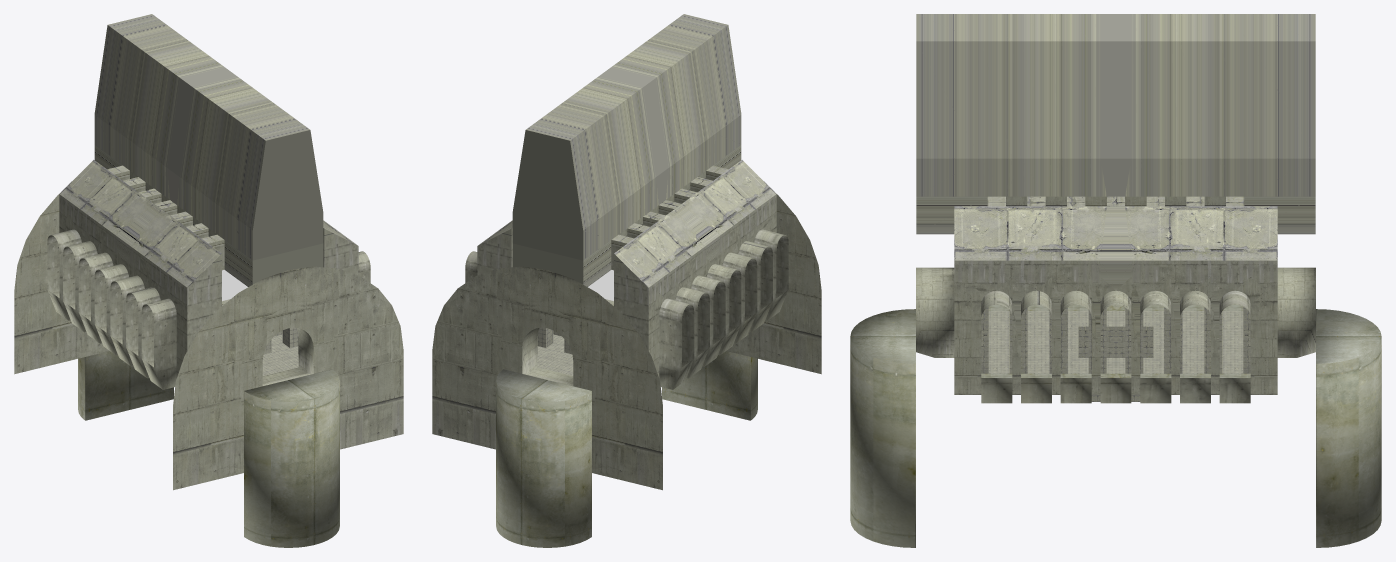
The model's file is SM_Impasse_Block_00.fbx.
3 views of the same model, side by side, from view 1: azimuth 30°, elevation 25°; view 2: azimuth 150°, elevation 25°; view 3: azimuth 270°, elevation 25° (orthographic). The views are drawn at different scales.
Visible parts, largest first — view 1: SM_Impasse_Block_00; view 2: SM_Impasse_Block_00; view 3: SM_Impasse_Block_00.
Boxes of the visible parts, box(x1,y1,x2,y2) form: SM_Impasse_Block_00: box(14, 14, 403, 547); SM_Impasse_Block_00: box(432, 14, 821, 547); SM_Impasse_Block_00: box(850, 14, 1381, 547).
Bounding box in the file's own units: 4846 × 7849 × 7667.
